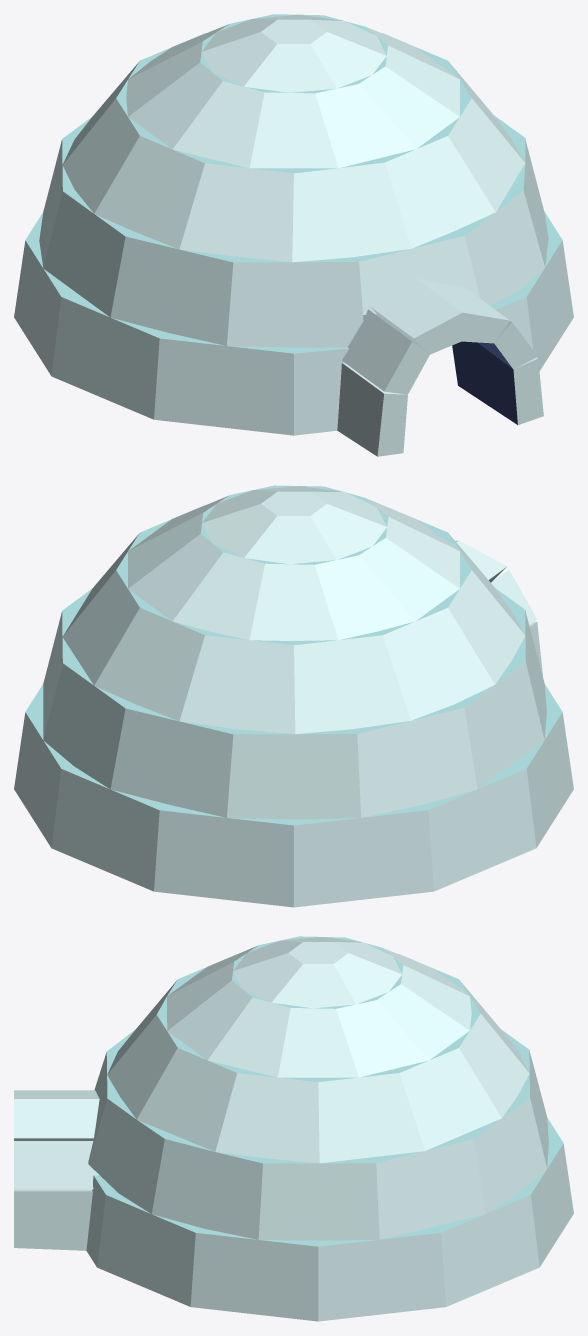
The model's file is nature_igloo.fbx.
3 renders of one model, top to bottom at view 1: azimuth 30°, elevation 25°; view 2: azimuth 150°, elevation 25°; view 3: azimuth 270°, elevation 25°, orthographic. The views are drawn at different scales.
Parts seen in each view (by area): view 1: nature_igloo; view 2: nature_igloo; view 3: nature_igloo.
Part boxes in pixels (<box>): nature_igloo: <box>14,14,573,456</box>; nature_igloo: <box>14,485,573,907</box>; nature_igloo: <box>14,936,573,1321</box>.
Bounding box in the file's own units: 183 × 103 × 200.
